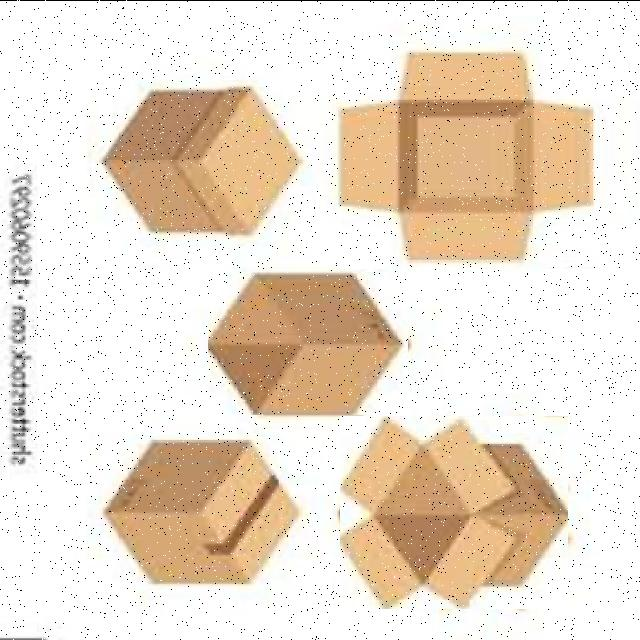defect: (332, 40, 600, 268), (340, 415, 568, 608), (208, 271, 408, 414)
normal: (95, 429, 298, 586), (103, 82, 306, 238)
